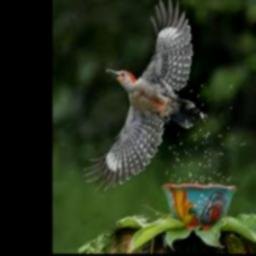Woodpecker: (83, 0, 202, 189)
